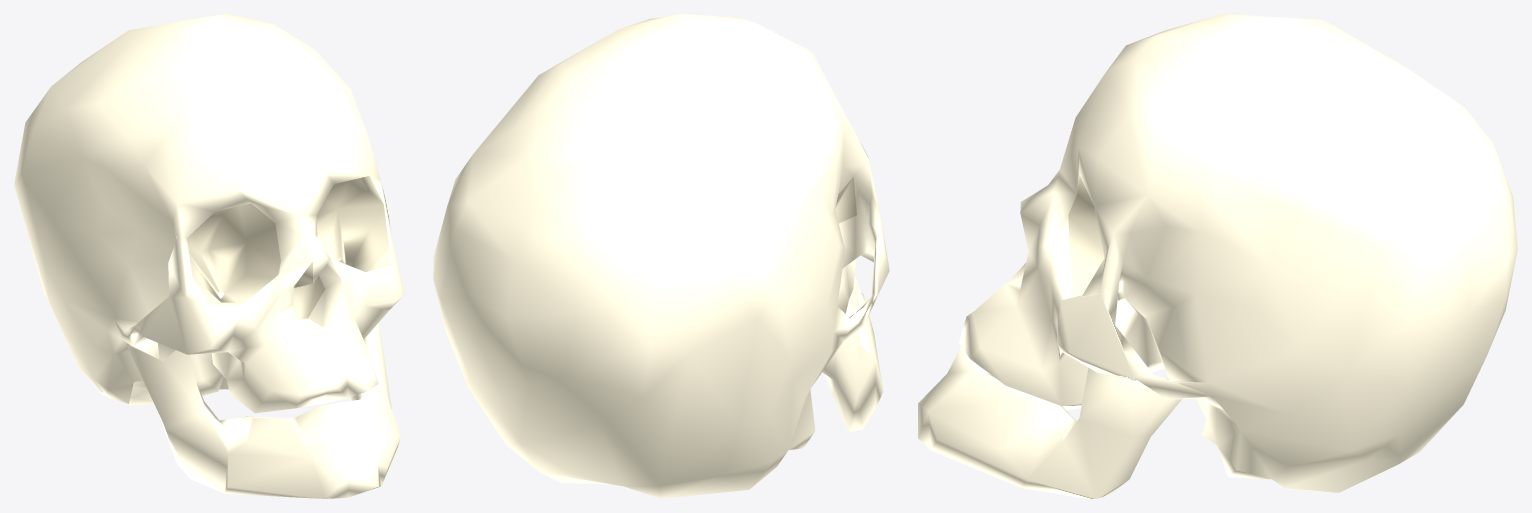
File: Skull01.glb
The picture shows the model from 3 angles, left to right: view 1: azimuth 30°, elevation 25°; view 2: azimuth 150°, elevation 25°; view 3: azimuth 270°, elevation 25°; orthographic projection. The views are drawn at different scales.
Parts seen in each view (by area): view 1: Skull01; view 2: Skull01; view 3: Skull01.
Boxes of the visible parts, <box> form: Skull01: <box>14,14,404,498</box>; Skull01: <box>433,14,889,498</box>; Skull01: <box>918,14,1517,498</box>.
Size of what is drawn, in the model's own units: 0.2005 by 0.2517 by 0.3132.
1 material, 1 textured.
